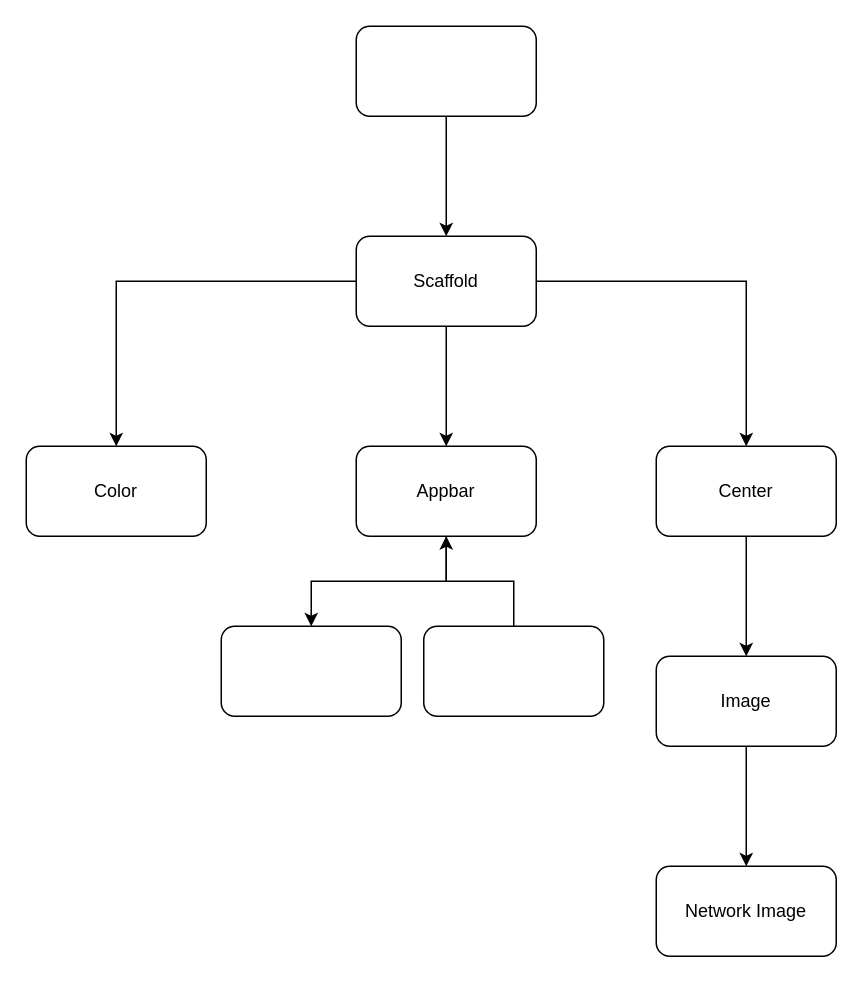
This 863x983 diagram has some shape labels left out. Here are the shapes that lost their labels. From the top down, the centre of each, then its label:
At point (445, 70): "Material App".
At point (310, 670): "Text".
At point (513, 670): "Cololr".
